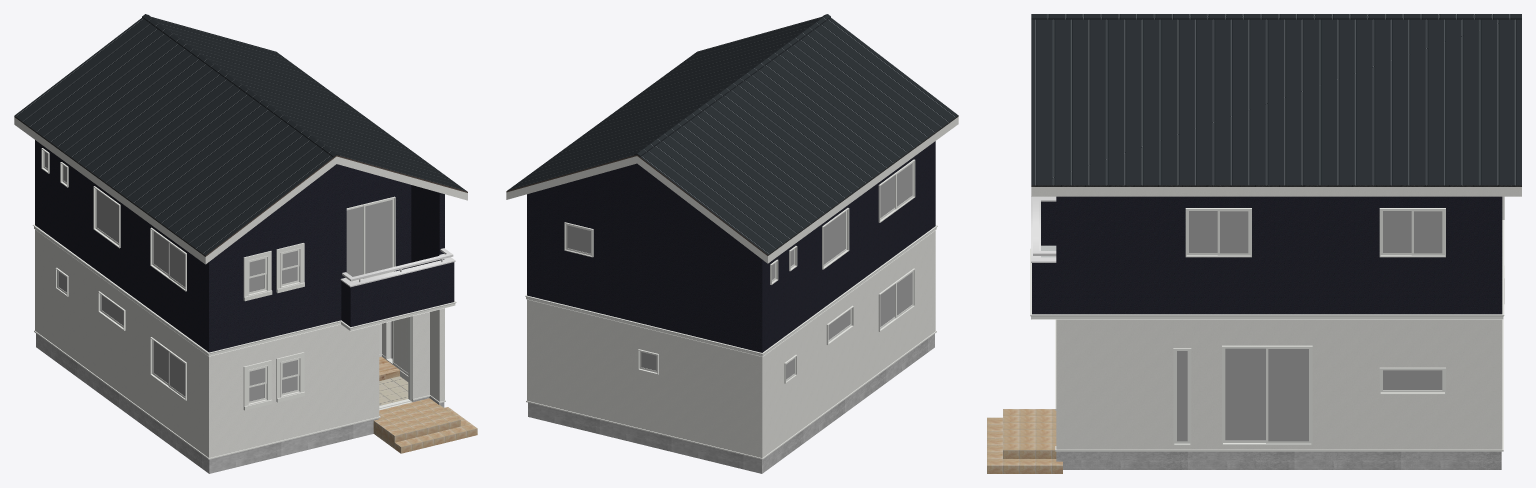
Rendered from SM_NorthEurope_1.fbx.
The picture shows the model from 3 angles, left to right: view 1: azimuth 30°, elevation 25°; view 2: azimuth 150°, elevation 25°; view 3: azimuth 270°, elevation 25°; orthographic projection. The views are drawn at different scales.
Parts seen in each view (by area): view 1: GDLM104_mGDLM2_Layer0_50, GDLM86_mGDLM34_Layer1_52, GDLM97_mGDLM15_Layer11_7, GDLM76_mGDLM22_Layer12_7, GDLM115_mGDLM42_Layer30_1, ｾﾗｸﾗｼｯｸ_ﾛｾﾞ, GDLM123_mGDLM35_Layer19.013, GDLM100_mGDLM28_Layer13_8, GDLM141_mGDLM3_Layer10_54, GDLM123_mGDLM35_Layer19.023, GDLM123_mGDLM35_Layer19.021, GDLM123_mGDLM35_Layer19.027 (+4 smaller); view 2: GDLM104_mGDLM2_Layer0_50, GDLM86_mGDLM34_Layer1_52, GDLM97_mGDLM15_Layer11_7, GDLM76_mGDLM22_Layer12_7, GDLM115_mGDLM42_Layer30_1, GDLM123_mGDLM35_Layer19.023, GDLM123_mGDLM35_Layer19.021, GDLM123_mGDLM35_Layer19.017, GDLM123_mGDLM35_Layer19.050, GDLM111_mGDLM46_Layer37; view 3: GDLM104_mGDLM2_Layer0_50, GDLM86_mGDLM34_Layer1_52, GDLM97_mGDLM15_Layer11_7, GDLM76_mGDLM22_Layer12_7, GDLM115_mGDLM42_Layer30_1, GDLM123_mGDLM35_Layer19.056, ｾﾗｸﾗｼｯｸ_ﾛｾﾞ, GDLM123_mGDLM35_Layer19.044, GDLM123_mGDLM35_Layer19.048, GDLM76_mGDLM22_Layer12_7.001, GDLM123_mGDLM35_Layer19.039, GDLM123_mGDLM35_Layer19.037 (+2 smaller).
Part boxes in pixels (box(x1,y1,x2,y2)): GDLM104_mGDLM2_Layer0_50: box(14, 14, 466, 255); GDLM86_mGDLM34_Layer1_52: box(14, 117, 467, 457); GDLM97_mGDLM15_Layer11_7: box(35, 140, 454, 352); GDLM76_mGDLM22_Layer12_7: box(33, 148, 456, 459); GDLM115_mGDLM42_Layer30_1: box(36, 333, 444, 473); ｾﾗｸﾗｼｯｸ_ﾛｾﾞ: box(373, 398, 477, 453); GDLM123_mGDLM35_Layer19.013: box(346, 200, 392, 276); GDLM100_mGDLM28_Layer13_8: box(379, 316, 412, 410); GDLM141_mGDLM3_Layer10_54: box(340, 248, 455, 287); GDLM123_mGDLM35_Layer19.023: box(153, 341, 185, 396); GDLM123_mGDLM35_Layer19.021: box(153, 231, 185, 286); GDLM123_mGDLM35_Layer19.027: box(249, 360, 297, 401); GDLM104_mGDLM2_Layer0_50: box(507, 14, 958, 254); GDLM86_mGDLM34_Layer1_52: box(506, 117, 958, 457); GDLM97_mGDLM15_Layer11_7: box(527, 141, 935, 352); GDLM76_mGDLM22_Layer12_7: box(525, 159, 937, 459); GDLM115_mGDLM42_Layer30_1: box(528, 334, 934, 473); GDLM123_mGDLM35_Layer19.023: box(880, 272, 912, 326); GDLM123_mGDLM35_Layer19.021: box(880, 163, 912, 217); GDLM123_mGDLM35_Layer19.017: box(823, 211, 845, 264); GDLM123_mGDLM35_Layer19.050: box(567, 225, 590, 253); GDLM111_mGDLM46_Layer37: box(506, 155, 767, 255); GDLM104_mGDLM2_Layer0_50: box(1031, 14, 1521, 185); GDLM86_mGDLM34_Layer1_52: box(1031, 187, 1521, 449); GDLM97_mGDLM15_Layer11_7: box(1032, 196, 1502, 314); GDLM76_mGDLM22_Layer12_7: box(1030, 196, 1504, 451); GDLM115_mGDLM42_Layer30_1: box(1056, 451, 1501, 469); GDLM123_mGDLM35_Layer19.056: box(1225, 348, 1308, 441); ｾﾗｸﾗｼｯｸ_ﾛｾﾞ: box(987, 409, 1062, 473); GDLM123_mGDLM35_Layer19.044: box(1383, 211, 1442, 253); GDLM123_mGDLM35_Layer19.048: box(1189, 211, 1248, 253); GDLM76_mGDLM22_Layer12_7.001: box(1222, 345, 1312, 445); GDLM123_mGDLM35_Layer19.039: box(1383, 370, 1442, 389); GDLM123_mGDLM35_Layer19.037: box(1177, 351, 1187, 441).
Size of the model in its own units: 7.28 by 7.92 by 10.03.
Materials: 32 (27 with a texture image).
